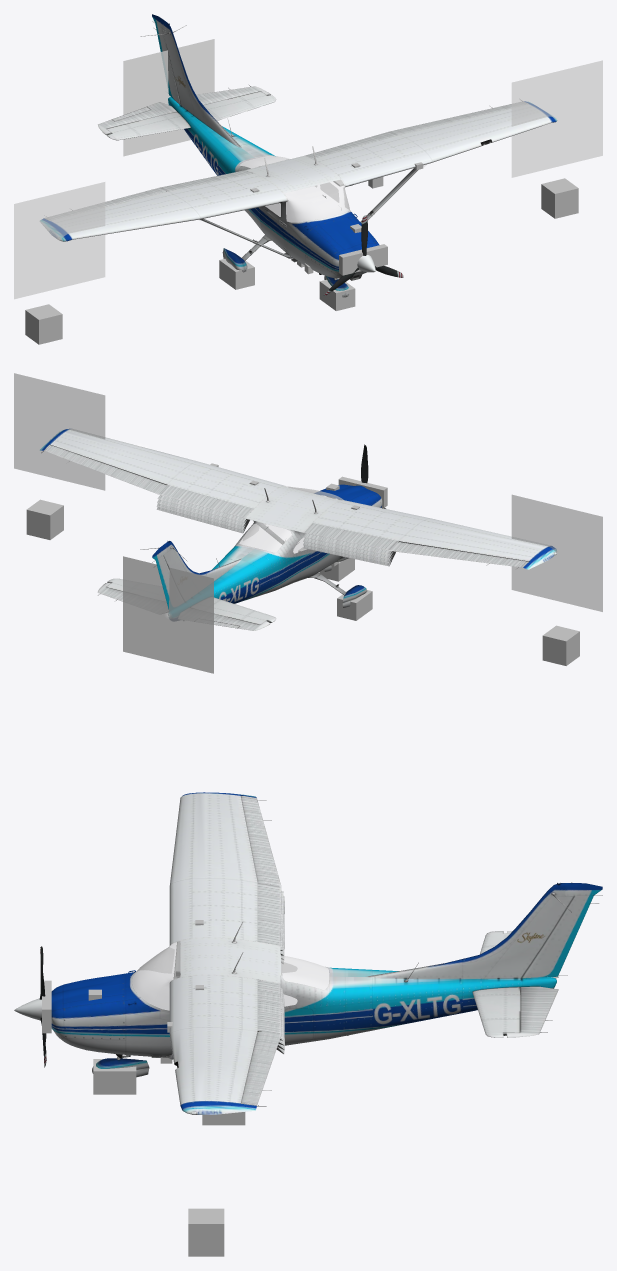
The model's file is G-XLTG.gltf.
The picture shows the model from 3 angles, top to bottom: view 1: azimuth 30°, elevation 25°; view 2: azimuth 150°, elevation 25°; view 3: azimuth 270°, elevation 25°; orthographic projection. The views are drawn at different scales.
Parts seen in each view (by area): view 1: Exterior, XLive_2, Pose_flaps_0, XLive_3, XLive_0, Spin_0, XLive_1; view 2: Exterior, Pose_flaps_0, XLive_2, XLive_0, XLive_1, Pose_flaps_1, Pose_flaps_2, XLive_3, Pose_flaps_3, Pose_flaps_4; view 3: Exterior, Pose_flaps_0, XLive_3, XLive_1, XLive_0, XLive_2.
Part boxes in pixels (x1,y1,x2,y2): Exterior: (14, 22, 602, 344); XLive_2: (98, 85, 270, 135); Pose_flaps_0: (159, 131, 397, 191); XLive_3: (152, 14, 180, 105); XLive_0: (391, 101, 528, 134); Spin_0: (324, 215, 403, 295); XLive_1: (44, 188, 166, 220); Exterior: (14, 373, 602, 673); Pose_flaps_0: (158, 485, 398, 550); XLive_2: (97, 583, 270, 630); XLive_0: (41, 444, 166, 494); XLive_1: (390, 542, 528, 568); Pose_flaps_1: (157, 495, 393, 555); Pose_flaps_2: (157, 499, 393, 559); XLive_3: (152, 543, 183, 612); Pose_flaps_3: (156, 503, 393, 563); Pose_flaps_4: (156, 507, 395, 566); Exterior: (14, 792, 574, 1256); Pose_flaps_0: (257, 882, 281, 1034); XLive_3: (521, 883, 602, 978); XLive_1: (241, 796, 281, 886); XLive_0: (240, 1032, 281, 1106); XLive_2: (506, 931, 558, 1037).
Size of the model in its own units: 12.92 by 3.27 by 8.5.
13 materials, 8 textured.
